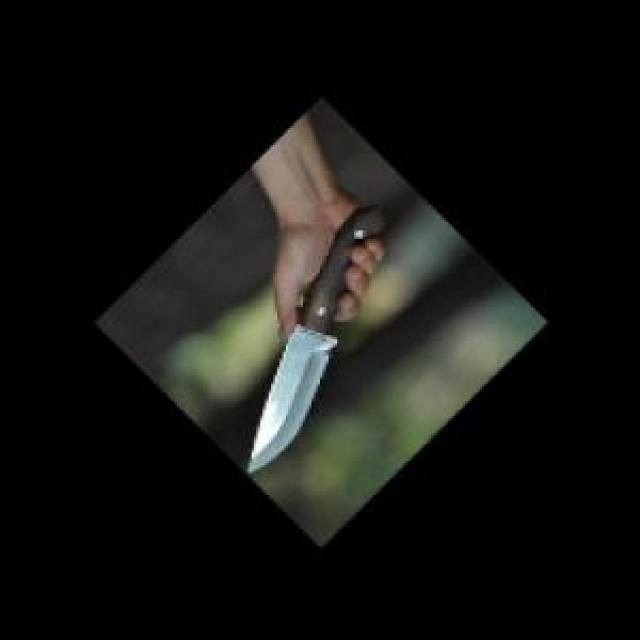knife: (241, 190, 399, 481)
